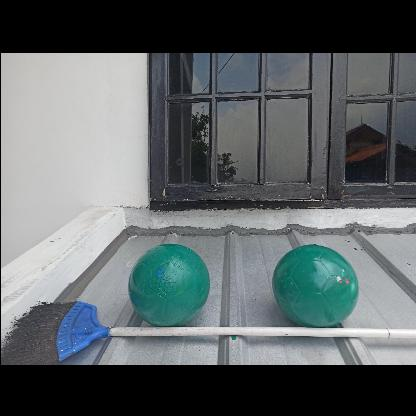green_ball: (272, 240, 358, 326), (126, 240, 212, 324)
